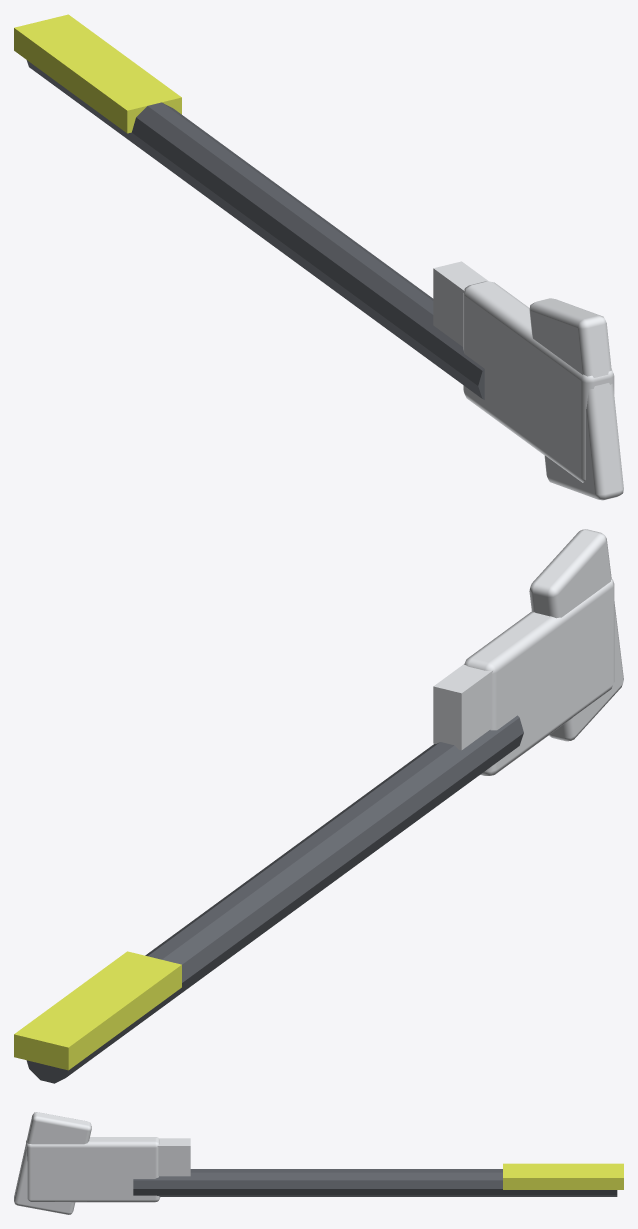
Rendered from axe-2.glb.
3 renders of one model, top to bottom at view 1: azimuth 30°, elevation 25°; view 2: azimuth 150°, elevation 25°; view 3: azimuth 270°, elevation 25°, orthographic. The views are drawn at different scales.
Parts seen in each view (by area): view 1: fire-axe; view 2: fire-axe; view 3: fire-axe.
Part boxes in pixels (x1,y1,x2,y2): fire-axe: [14, 14, 623, 500]; fire-axe: [14, 529, 623, 1083]; fire-axe: [14, 1112, 623, 1214].
Bounding box in the file's own units: 0.05 × 0.1623 × 0.9077.
